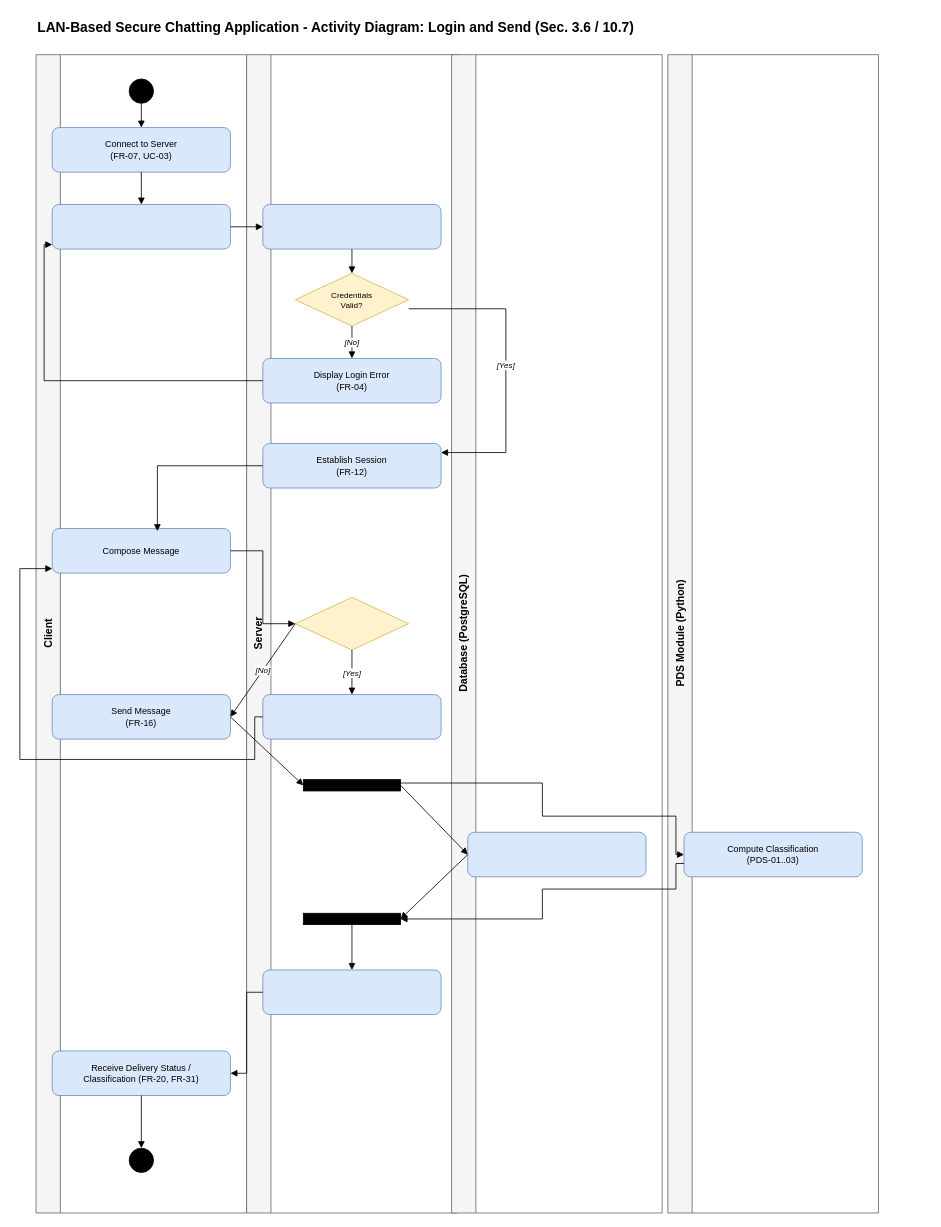
Some shapes in this 941 by 1227 pixel diagram are drawn without their labels. The centre of each missing label's shape, as x and y in pixels:
"Authenticate User (FR-11, SEC-01)" goes at (351,226).
"Enter Credentials" goes at (140,226).
"Message Empty?" goes at (351,623).
"Persist Message (FR-18, FR-21)" goes at (556,854).
"Reject Message (FR-26)" goes at (351,716).
"Route & Deliver Message (FR-17, FR-20)" goes at (351,992).
